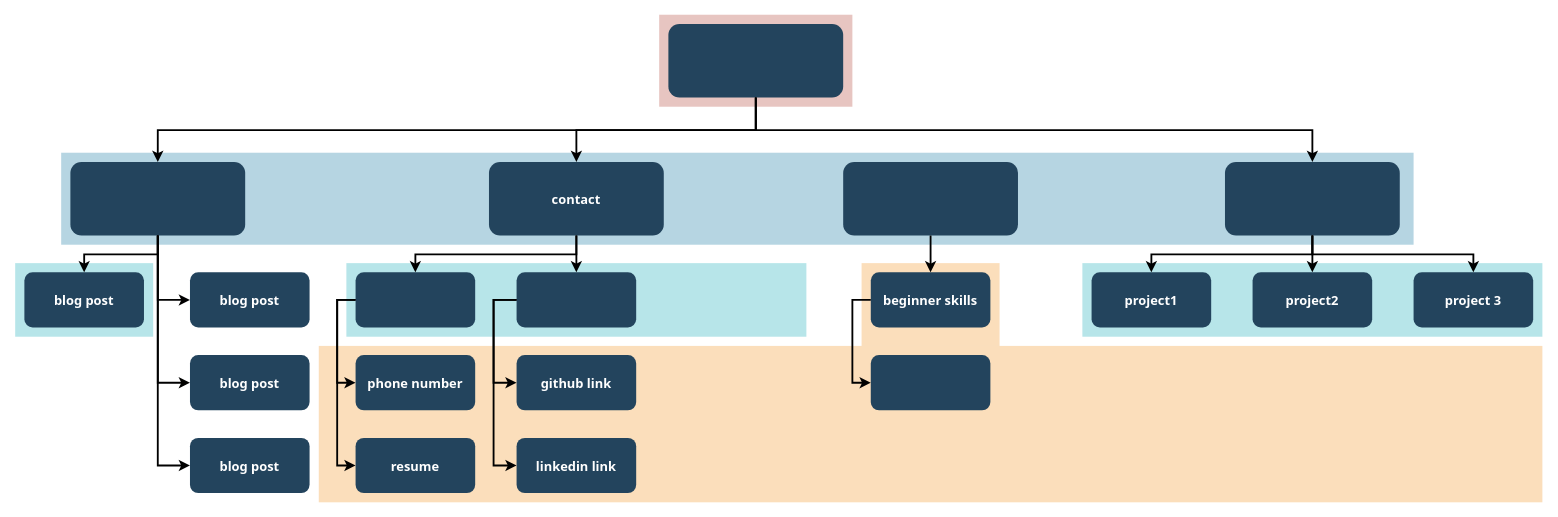
Image size: 1558x517. Some labels were removed from this diagram. The centre of each missing label's shape, as x and y in pixels:
"advanced skills" goes at pixel 930 382.
"blog" goes at pixel 157 198.
"email" goes at pixel 415 299.
"index" goes at pixel 755 60.
"projects" goes at pixel 1312 198.
"skills" goes at pixel 930 198.
"twitter link" goes at pixel 576 299.
